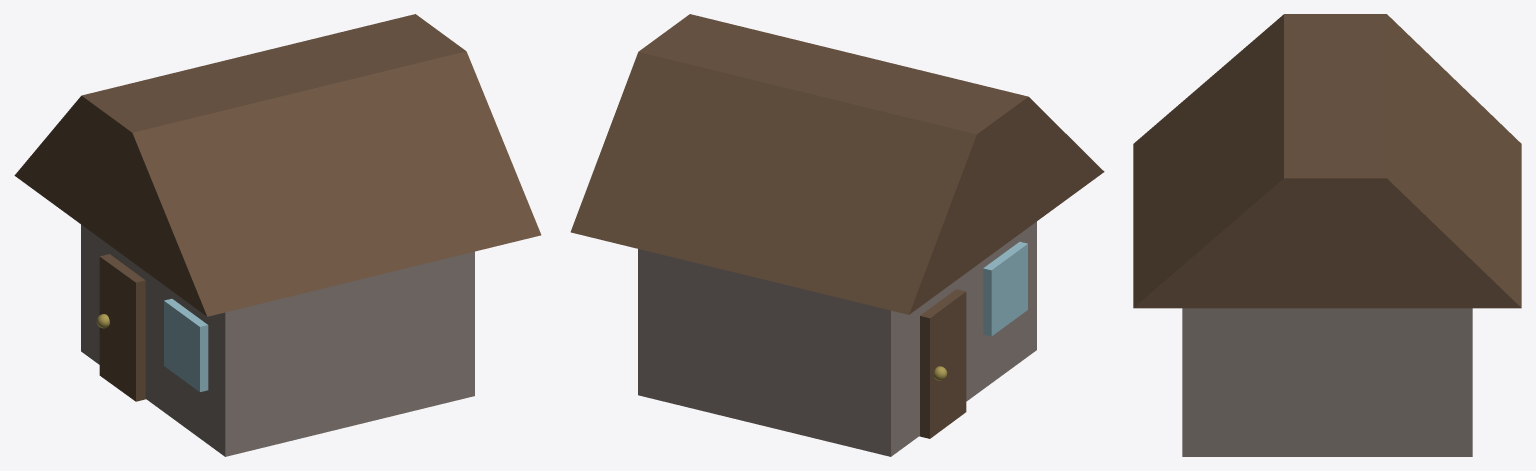
Rendered from House.fbx.
3 views of the same model, side by side, from view 1: azimuth 30°, elevation 25°; view 2: azimuth 150°, elevation 25°; view 3: azimuth 270°, elevation 25° (orthographic).
Parts seen in each view (by area): view 1: pCube4, pCube1, pCube2, pCube3; view 2: pCube4, pCube1, pCube2, pCube3; view 3: pCube4, pCube1.
Boxes of the visible parts, <box> form: pCube4: <box>14,14,541,316</box>; pCube1: <box>81,224,474,456</box>; pCube2: <box>99,254,145,401</box>; pCube3: <box>164,298,208,391</box>; pCube4: <box>570,14,1104,314</box>; pCube1: <box>638,221,1036,456</box>; pCube2: <box>919,289,966,438</box>; pCube3: <box>983,241,1027,336</box>; pCube4: <box>1133,14,1521,308</box>; pCube1: <box>1182,308,1472,456</box>.
Bounding box in the file's own units: 2.68 × 2.28 × 2.68.
